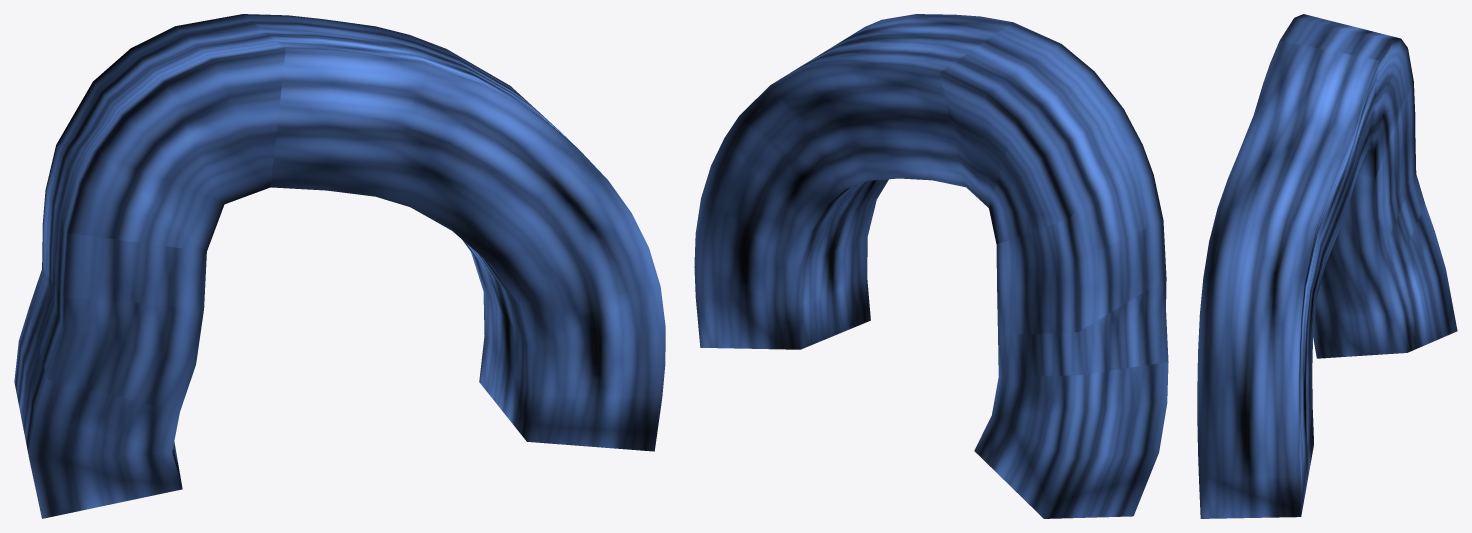
The model's file is Arch2.fbx.
3 renders of one model, left to right at view 1: azimuth 30°, elevation 25°; view 2: azimuth 150°, elevation 25°; view 3: azimuth 270°, elevation 25°, orthographic. The views are drawn at different scales.
Visible parts, largest first — view 1: makevr_0007; view 2: makevr_0007; view 3: makevr_0007.
Part boxes in pixels (x1,y1,x2,y2): makevr_0007: [14, 14, 665, 518]; makevr_0007: [694, 14, 1168, 518]; makevr_0007: [1197, 14, 1457, 518].
Size of the model in its own units: 364 by 291 by 186.
